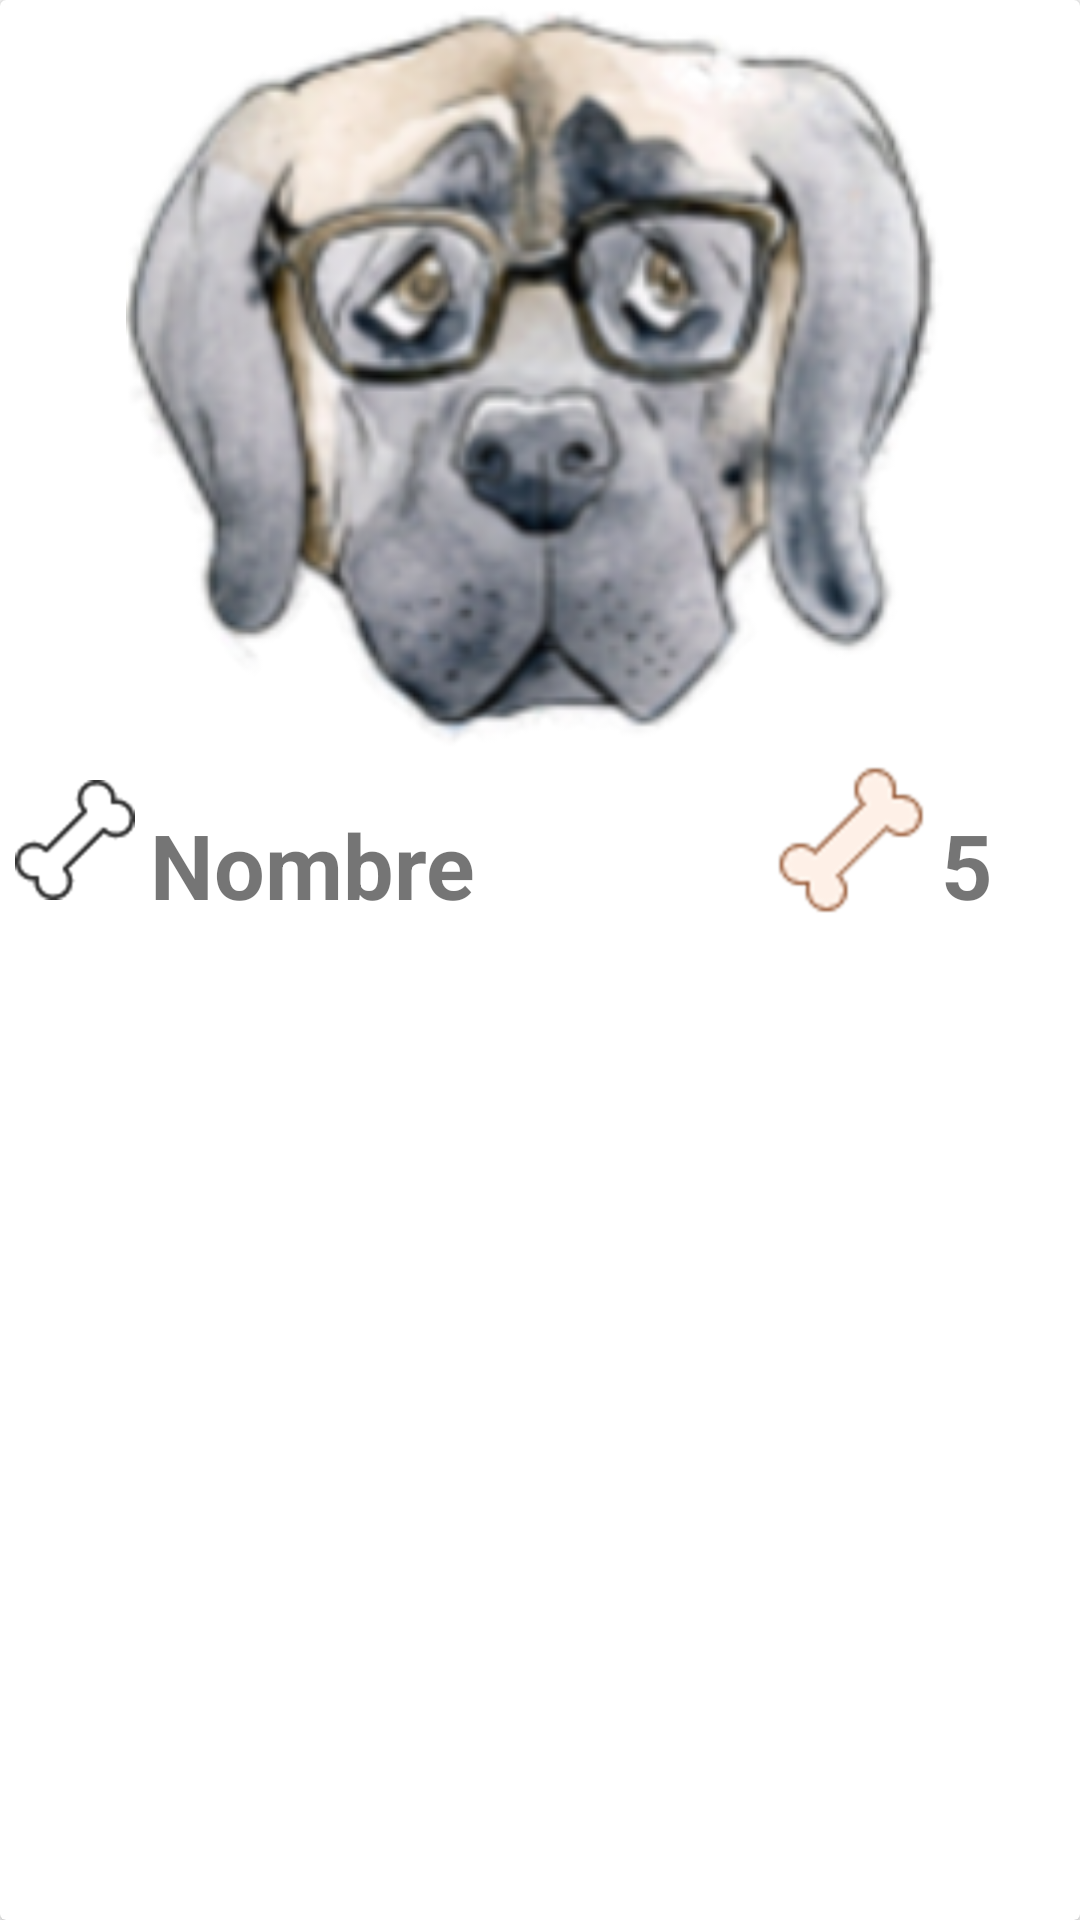

Icon click points for this 1080 x 1920 phone screenshot, format (x=x, y=y):
bone: (x=75, y=840)
bonecafe: (x=851, y=840)
